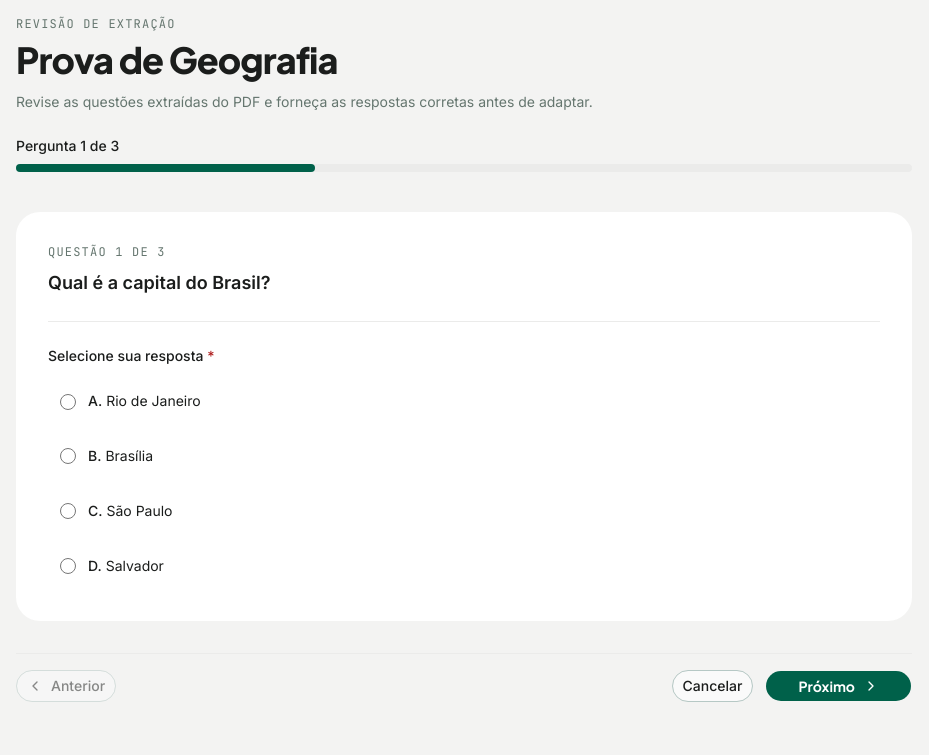
ExtractionForm › Form Validation › should clear error when user provides answer
The image size is (929, 755).
Click the button "Próximo".
click(839, 686)  # box [765,670,912,702]
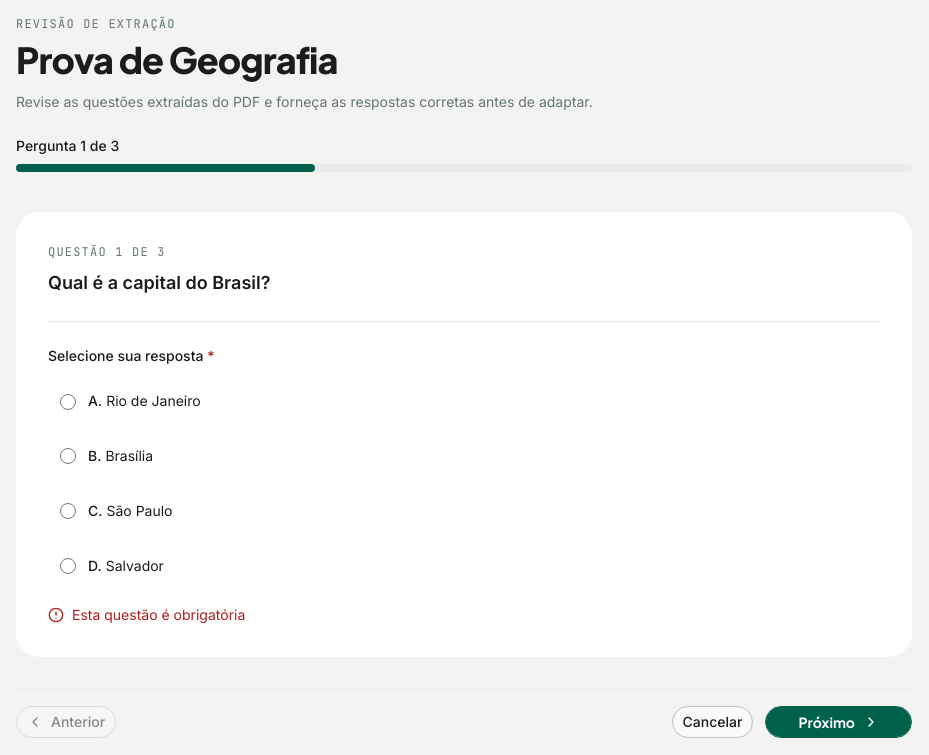
Expected: the text "Esta questão é obrigatória" is shown, [48,606,245,623]
Answer the question
Click the radio button with aria-label "Alternativa B: Brasília".
click(68, 456)  # box [60,448,76,464]
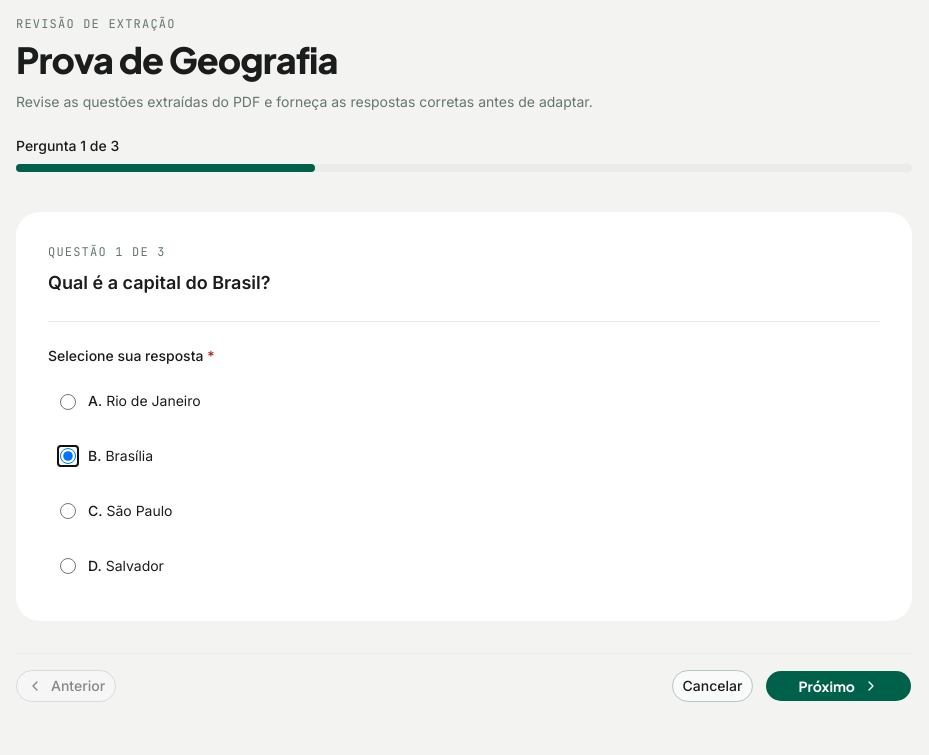
Expected: the text "Esta questão é obrigatória" is not shown
